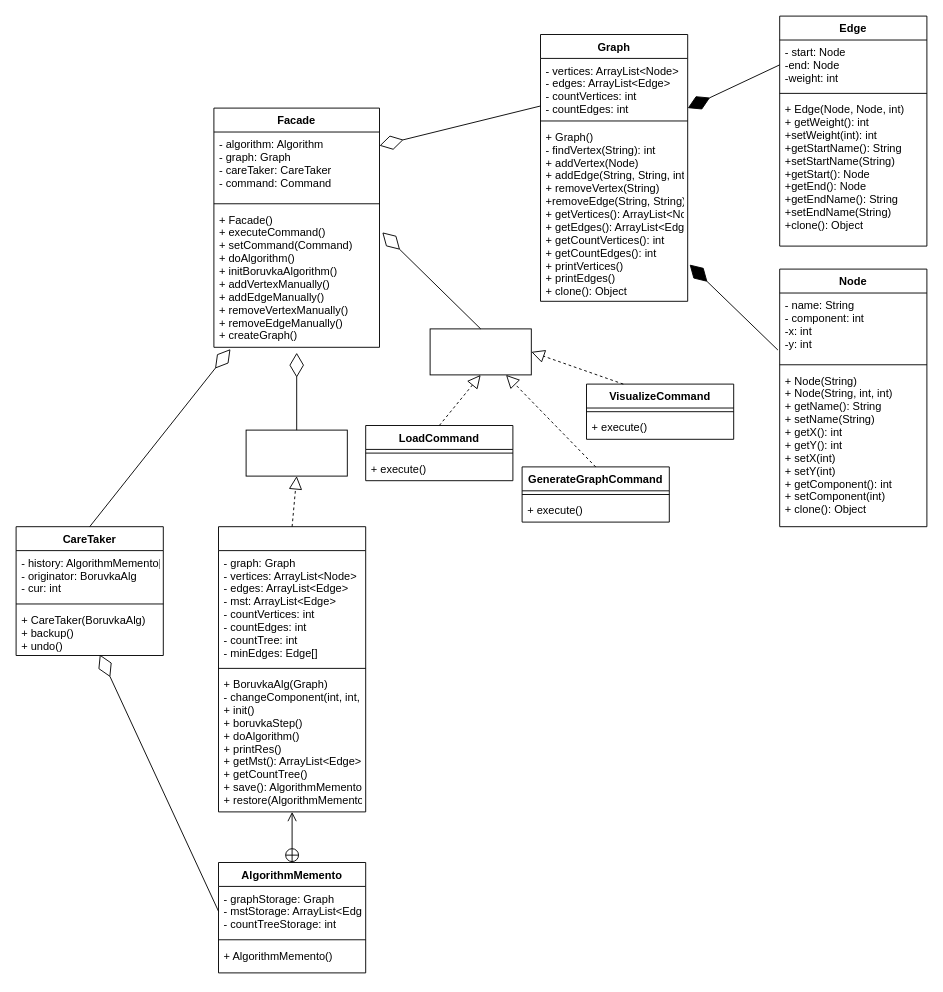
The diagram is 943 pixels wide and 992 high, and some of its shapes have lost their labels. Here are the shapes that lost their labels. From the top down, the box of each, then its label:
(429, 328, 531, 375): «interface» Command
(245, 429, 347, 476): «interface» Algorithm
(218, 526, 366, 812): BoruvkaAlgo
